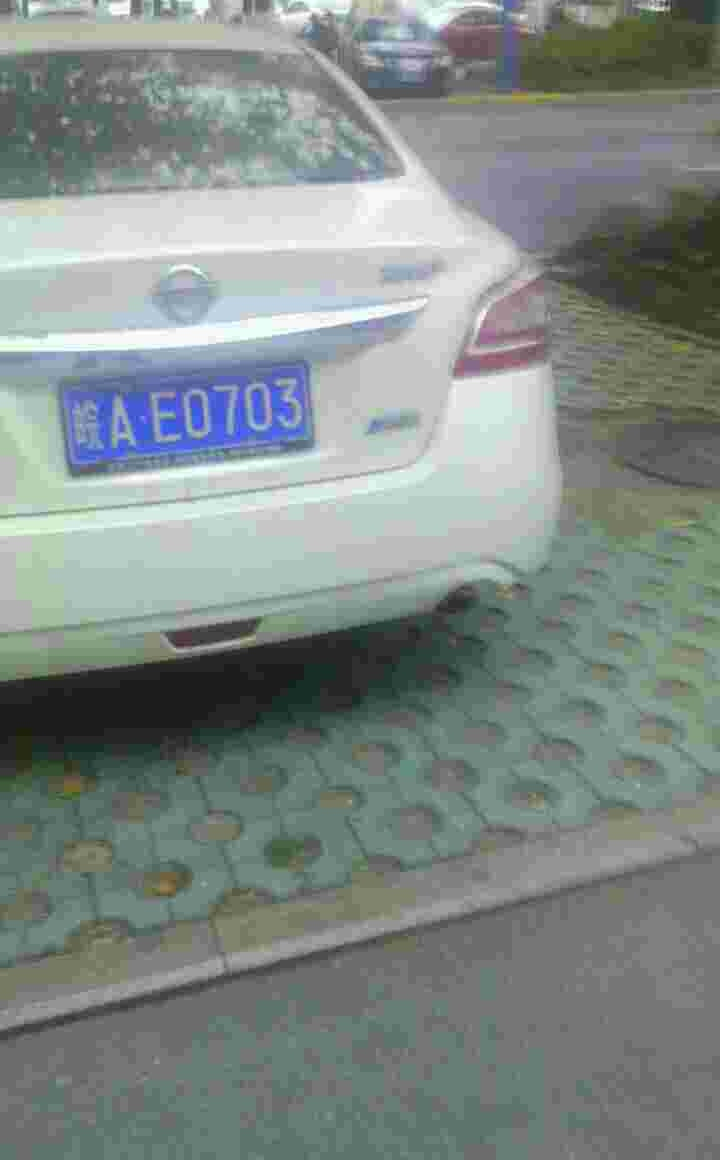license_plate: (64, 371, 304, 466)
